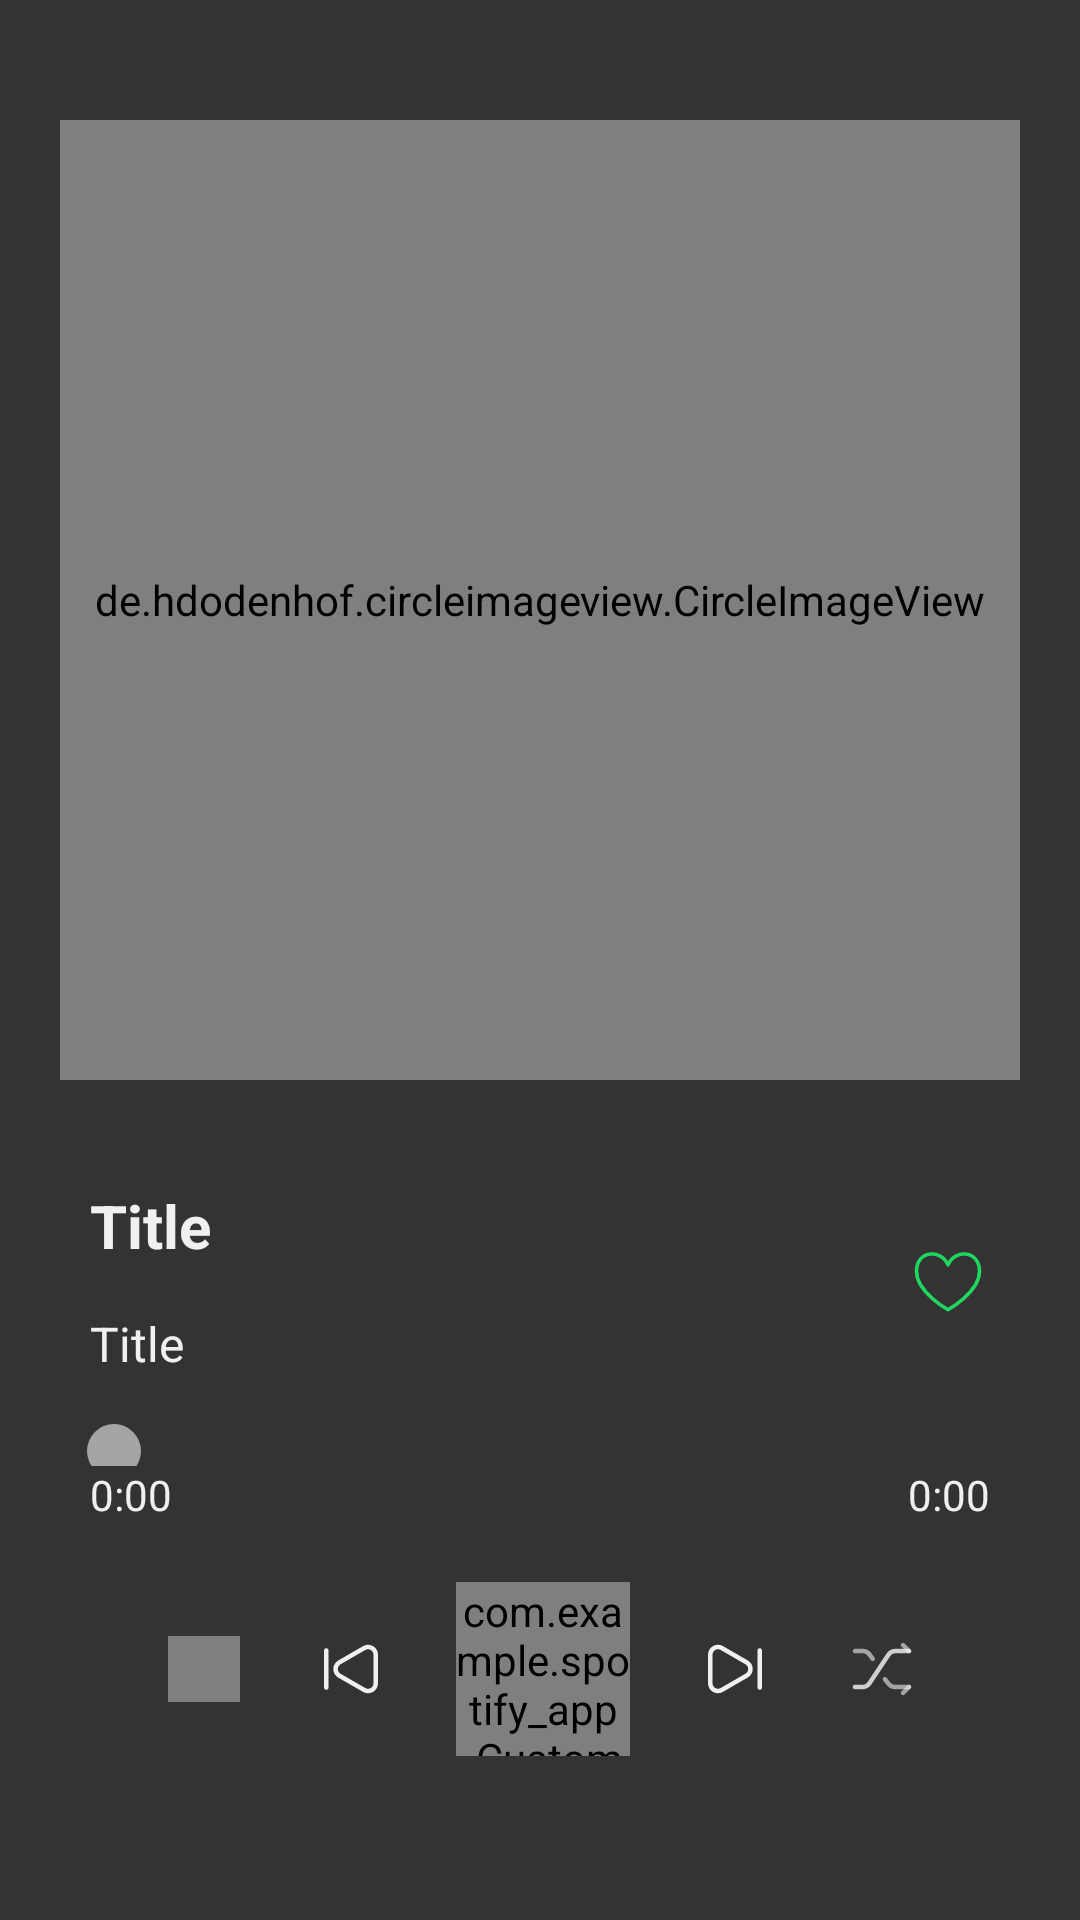

Screen size 1080 × 1920. Icon name, then its center in pixels as [x,y]:
shuffle: [882,1669]
